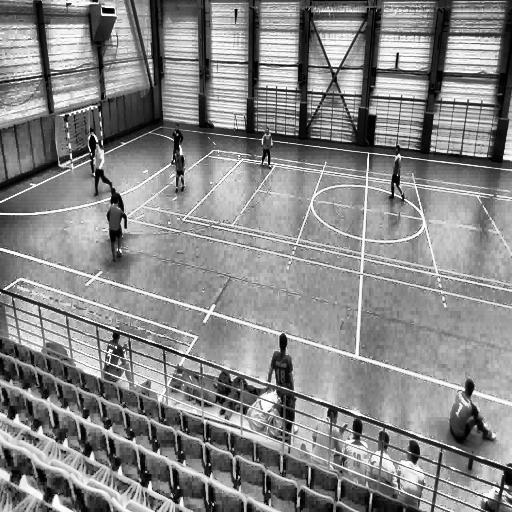ball: (115, 246, 123, 260)
player: (106, 192, 128, 264), (386, 141, 406, 202), (92, 141, 114, 196), (87, 125, 101, 177), (172, 142, 185, 194), (170, 119, 184, 167), (259, 128, 273, 168)
